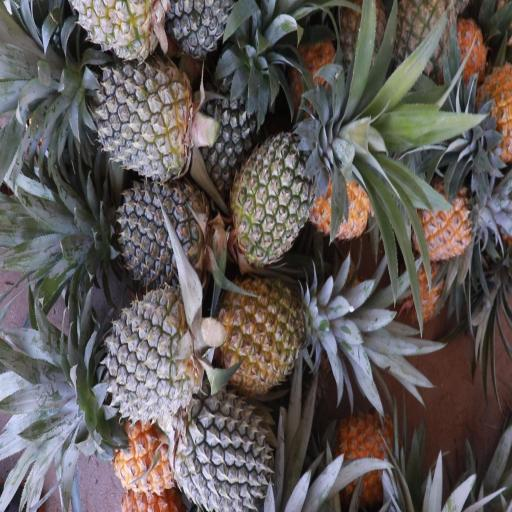------------------------------: (235, 130, 334, 254), (217, 273, 309, 387), (392, 0, 452, 79)
Pineapple - v8 v1: (104, 402, 177, 494), (336, 401, 392, 500), (310, 151, 372, 238), (419, 180, 480, 264)
